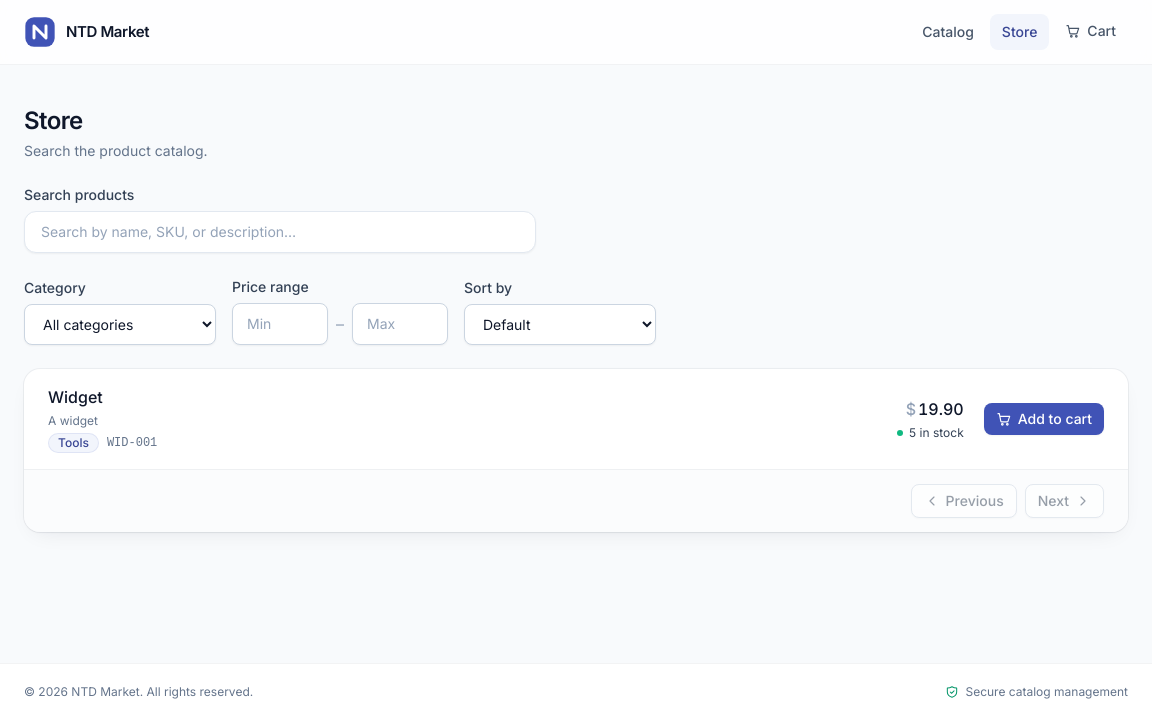
Add to cart from the Store › shows an insufficient_stock message when the add is rejected
Expected: the text "Widget" is shown, [48,387,103,407]
Click the button with aria-label "Add Widget to cart" at (1044, 419), box [984,403,1104,435]
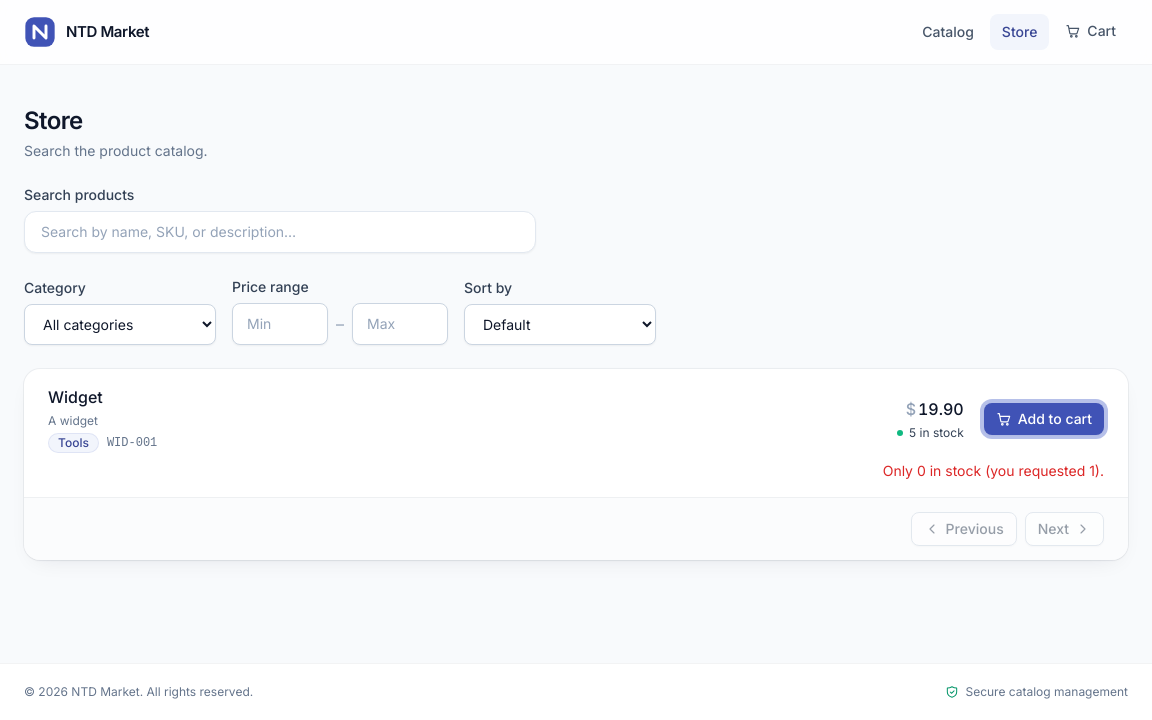
Result: the text "Only 0 in stock (you requested 1)." is shown at [883,462,1104,479]
